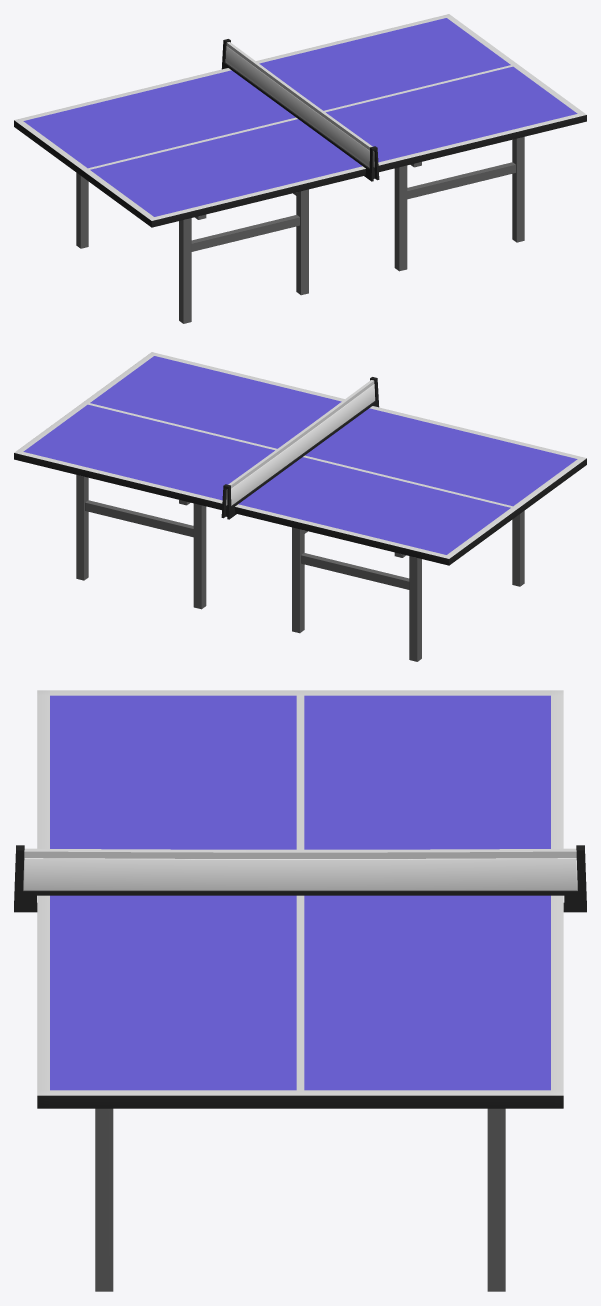
Rendered from Ping-Pong_Table.fbx.
The picture shows the model from 3 angles, top to bottom: view 1: azimuth 30°, elevation 25°; view 2: azimuth 150°, elevation 25°; view 3: azimuth 270°, elevation 25°; orthographic projection. The views are drawn at different scales.
Parts seen in each view (by area): view 1: Cube, Cube.002, Plane.003, Plane.001, Plane.002; view 2: Cube, Cube.002, Plane.003, Plane.001, Plane.002; view 3: Cube, Plane.003, Cube.002, Plane.002, Plane.001.
Boxes of the visible parts, bbox=[...] form: Cube: bbox=[14, 14, 586, 227]; Cube.002: bbox=[76, 137, 524, 323]; Plane.003: bbox=[225, 46, 374, 167]; Plane.001: bbox=[221, 39, 379, 181]; Plane.002: bbox=[226, 42, 372, 150]; Cube: bbox=[14, 352, 586, 565]; Cube.002: bbox=[76, 475, 524, 661]; Plane.003: bbox=[226, 384, 375, 505]; Plane.001: bbox=[221, 377, 379, 519]; Plane.002: bbox=[228, 380, 374, 488]; Cube: bbox=[37, 690, 563, 1108]; Plane.003: bbox=[23, 858, 577, 890]; Cube.002: bbox=[95, 1108, 505, 1291]; Plane.002: bbox=[24, 848, 576, 858]; Plane.001: bbox=[14, 845, 586, 912].
Size of the model in its own units: 277 by 90.64 by 165.
